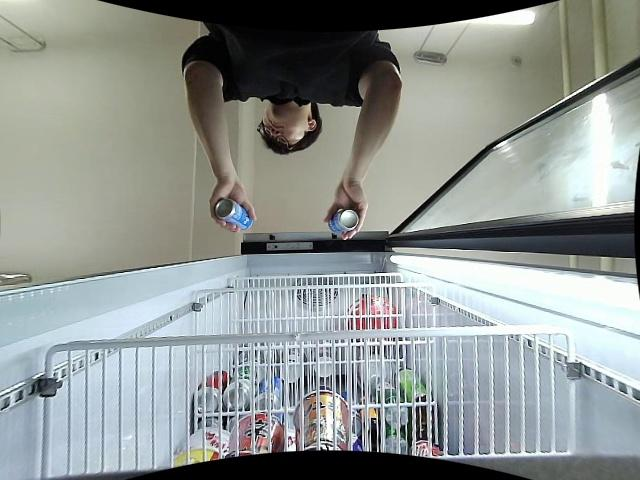00_hand: (324, 180, 369, 240), (211, 179, 257, 233)
15_letsbe: (213, 199, 252, 232)
